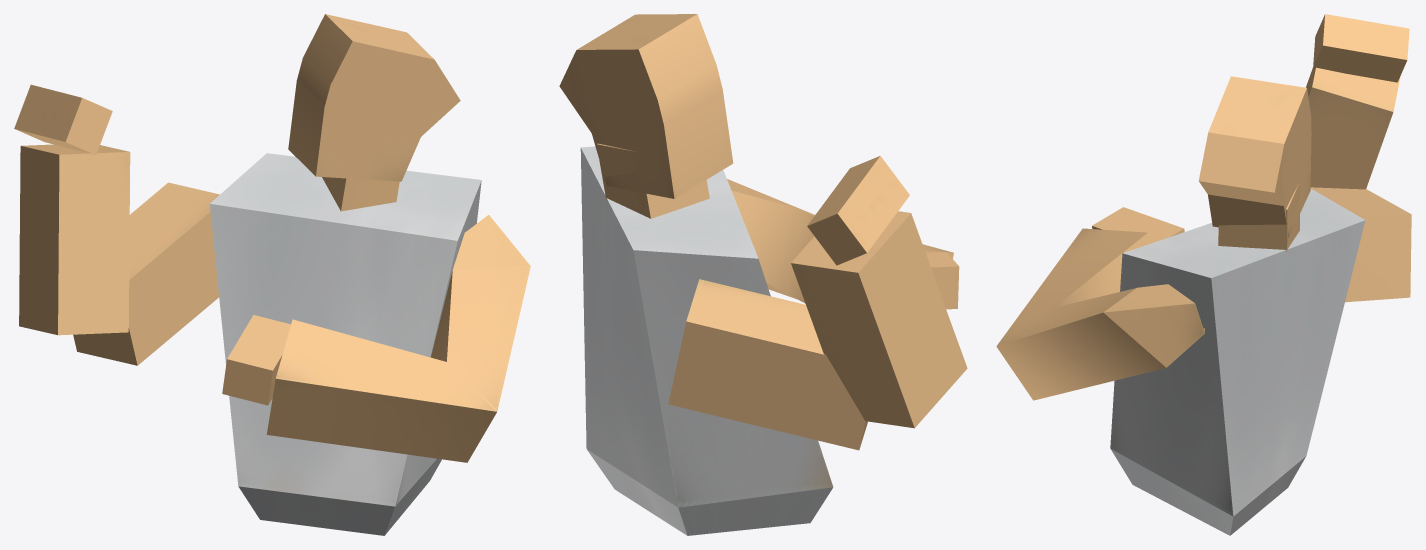
File: upperbodyright.FBX
3 views of the same model, side by side, from view 1: azimuth 30°, elevation 25°; view 2: azimuth 150°, elevation 25°; view 3: azimuth 270°, elevation 25° (orthographic). The views are drawn at different scales.
Parts seen in each view (by area): view 1: Box011, Box013, Box016, Box012, Box015, Box018, Box017, Box019; view 2: Box011, Box016, Box012, Box015, Box018, Box013, Box019, Box017; view 3: Box011, Box013, Box012, Box016, Box015, Box018, Box019, Box017.
Boxes of the visible parts, bbox=[...] form: Box011: bbox=[209, 153, 481, 535]; Box013: bbox=[266, 215, 530, 462]; Box016: bbox=[19, 144, 130, 335]; Box012: bbox=[288, 14, 460, 181]; Box015: bbox=[73, 182, 219, 365]; Box018: bbox=[14, 84, 112, 155]; Box017: bbox=[222, 315, 290, 405]; Box019: bbox=[322, 177, 399, 211]; Box011: bbox=[580, 146, 833, 535]; Box016: bbox=[791, 211, 967, 428]; Box012: bbox=[559, 14, 733, 198]; Box015: bbox=[668, 279, 867, 450]; Box018: bbox=[807, 156, 909, 265]; Box013: bbox=[727, 179, 953, 303]; Box019: bbox=[596, 143, 709, 218]; Box017: bbox=[926, 252, 959, 309]; Box011: bbox=[1110, 189, 1365, 535]; Box013: bbox=[996, 228, 1204, 400]; Box012: bbox=[1198, 76, 1311, 237]; Box016: bbox=[1306, 67, 1400, 189]; Box015: bbox=[1310, 187, 1411, 302]; Box018: bbox=[1313, 14, 1409, 82]; Box019: bbox=[1218, 181, 1300, 251]; Box017: bbox=[1092, 207, 1184, 243].
Size of the model in its own units: 35.96 by 40.19 by 35.61.
